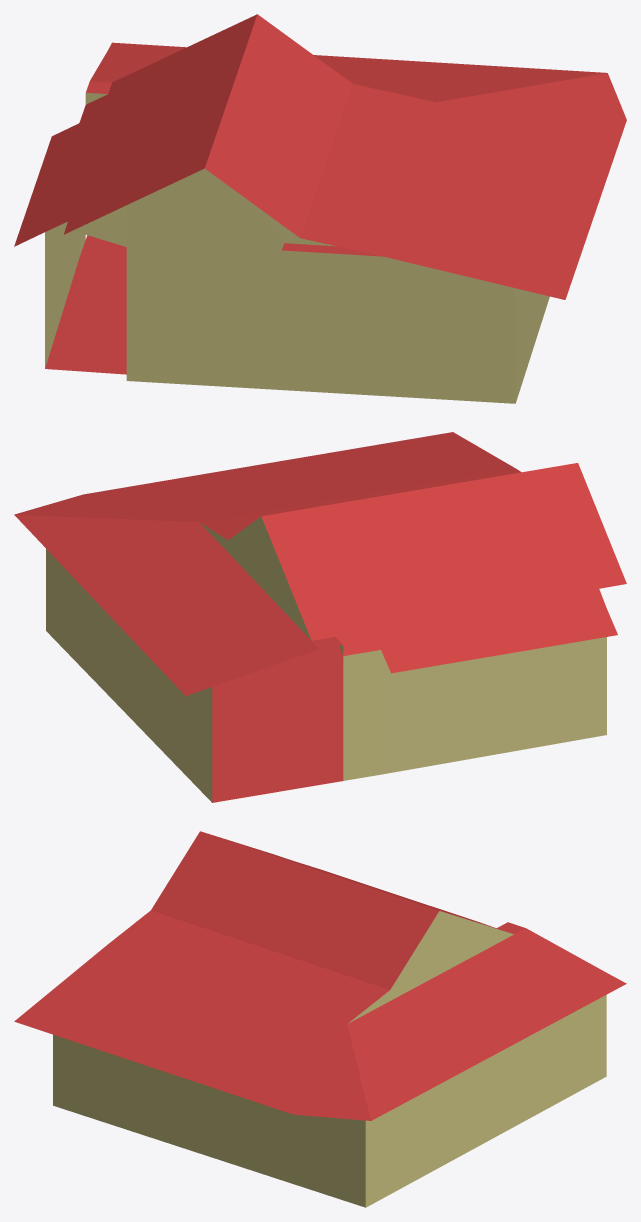
The picture shows the model from 3 angles, top to bottom: view 1: azimuth 30°, elevation 25°; view 2: azimuth 150°, elevation 25°; view 3: azimuth 270°, elevation 25°; orthographic projection. The views are drawn at different scales.
Size of the model in its own units: 40.67 by 41.92 by 13.97.
